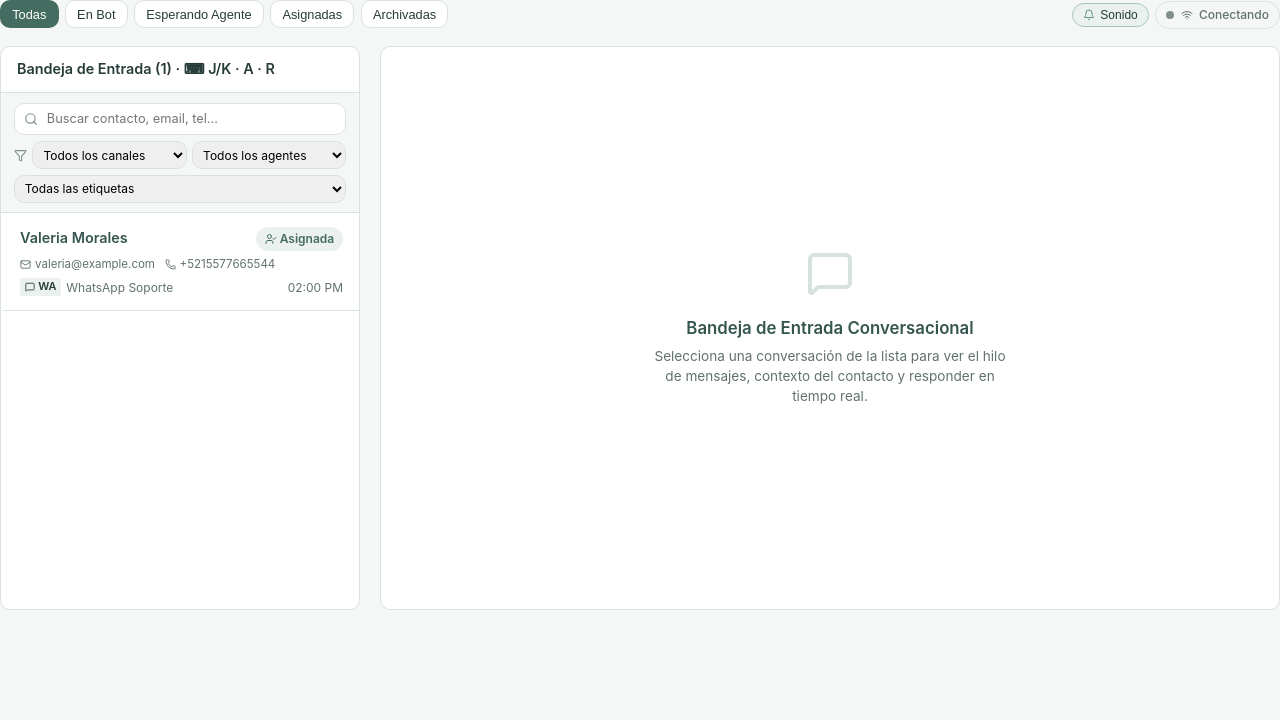
WhatsApp 24-Hour Service Window in ConversationsView › updates whatsapp_window remaining time in real time when .ConversationUpdated event arrives without switching conversation
Later steps or results of the test are not shown.
Click the element with test id "conversation-item": (180, 262) left=1, top=213, right=359, bottom=311
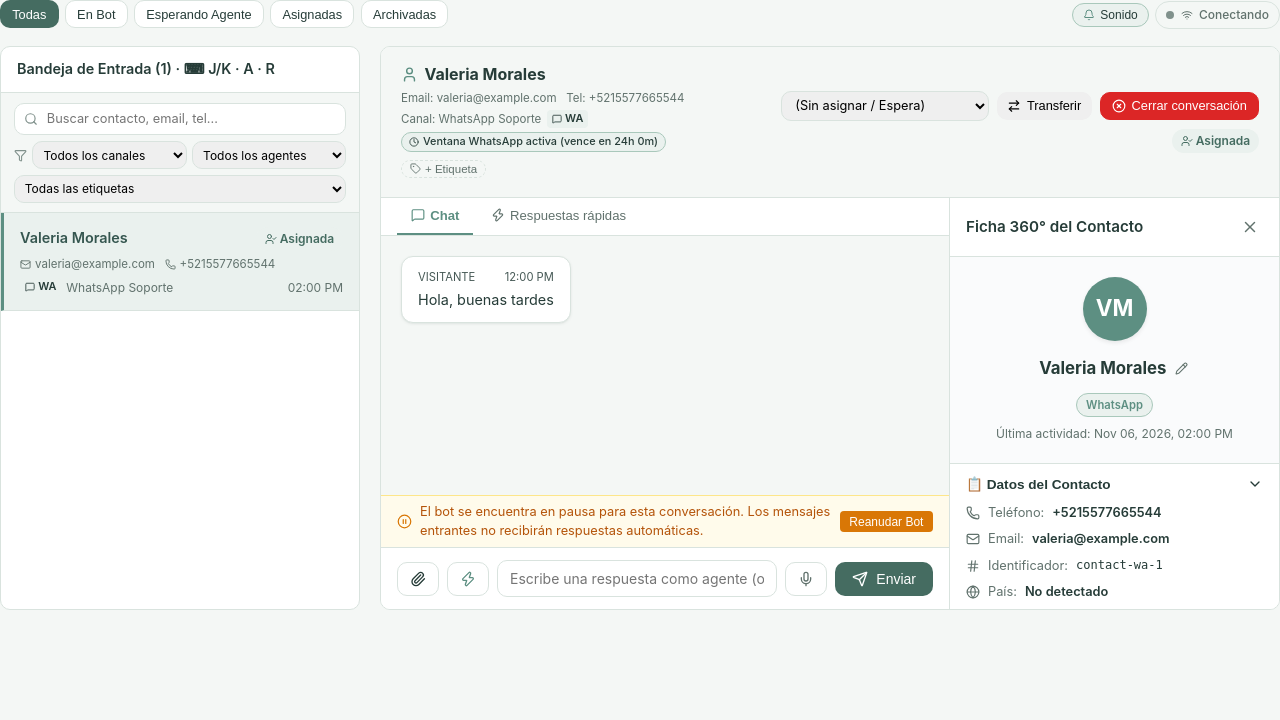
Result: the element with test id "whatsapp-window-active-badge" is shown at left=401, top=132, right=666, bottom=152
Result: the element with test id "whatsapp-window-active-badge" shows "24h 0m" at left=614, top=134, right=654, bottom=148
